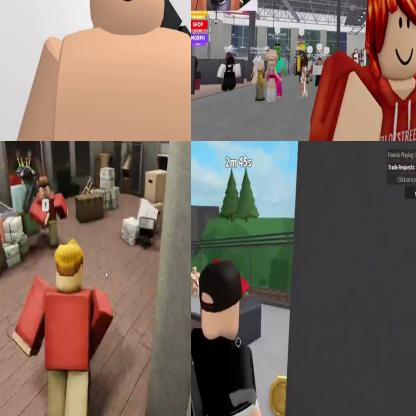Roblox-Avatar: (4, 1, 191, 141), (13, 238, 115, 416), (309, 1, 416, 141), (192, 258, 273, 416), (219, 57, 243, 92), (252, 56, 266, 102)
